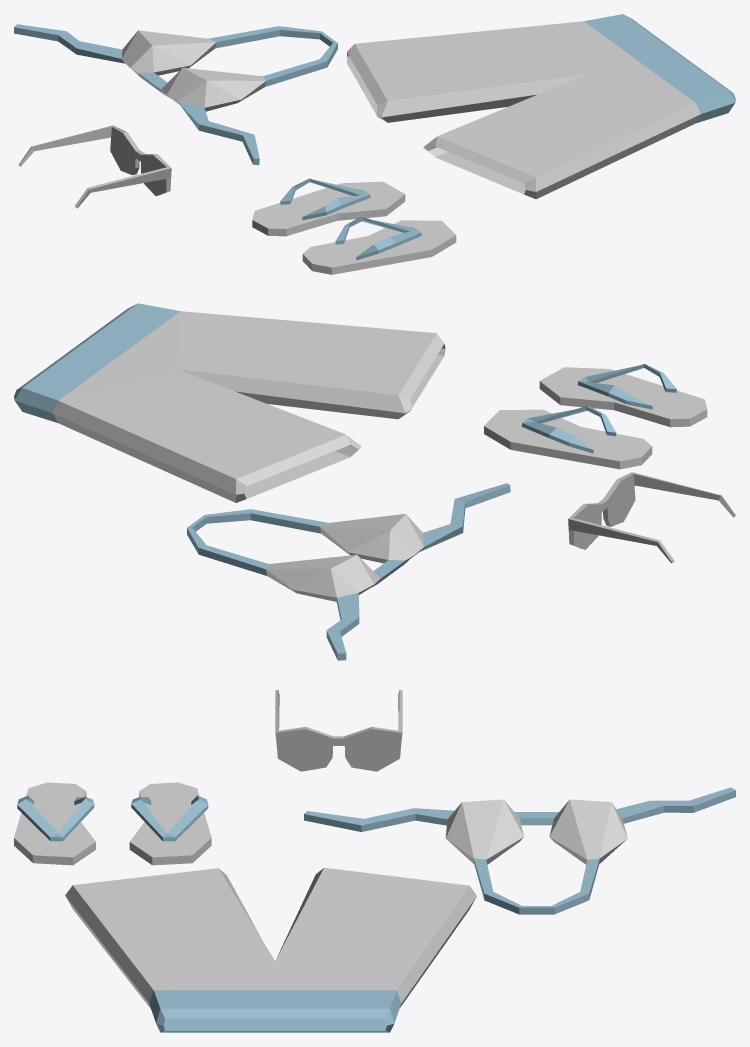
File: outfit_beach.fbx
3 views of the same model, one above another, from view 1: azimuth 30°, elevation 25°; view 2: azimuth 150°, elevation 25°; view 3: azimuth 270°, elevation 25° (orthographic). The views are drawn at different scales.
Parts seen in each view (by area): view 1: Beach_trunks, Beach_top, Beach_rightflipflop, Beach_leftflipflip, Beach_sunglasses; view 2: Beach_trunks, Beach_top, Beach_leftflipflip, Beach_rightflipflop, Beach_sunglasses; view 3: Beach_trunks, Beach_top, Beach_leftflipflip, Beach_rightflipflop, Beach_sunglasses.
Boxes of the visible parts, x1=… form: Beach_trunks: x1=347, y1=14, x2=735, y2=199; Beach_top: x1=14, y1=24, x2=337, y2=165; Beach_rightflipflop: x1=302, y1=217, x2=456, y2=274; Beach_leftflipflip: x1=252, y1=178, x2=405, y2=236; Beach_sunglasses: x1=18, y1=125, x2=171, y2=208; Beach_trunks: x1=14, y1=303, x2=445, y2=502; Beach_top: x1=187, y1=483, x2=510, y2=660; Beach_leftflipflip: x1=484, y1=406, x2=652, y2=469; Beach_rightflipflop: x1=539, y1=364, x2=707, y2=427; Beach_sunglasses: x1=568, y1=472, x2=735, y2=563; Beach_trunks: x1=65, y1=867, x2=476, y2=1032; Beach_top: x1=304, y1=787, x2=735, y2=914; Beach_leftflipflip: x1=129, y1=782, x2=211, y2=865; Beach_rightflipflop: x1=14, y1=782, x2=95, y2=865; Beach_sunglasses: x1=275, y1=689, x2=402, y2=771.
Size of the model in its own units: 8.1 by 0.499 by 7.64.
